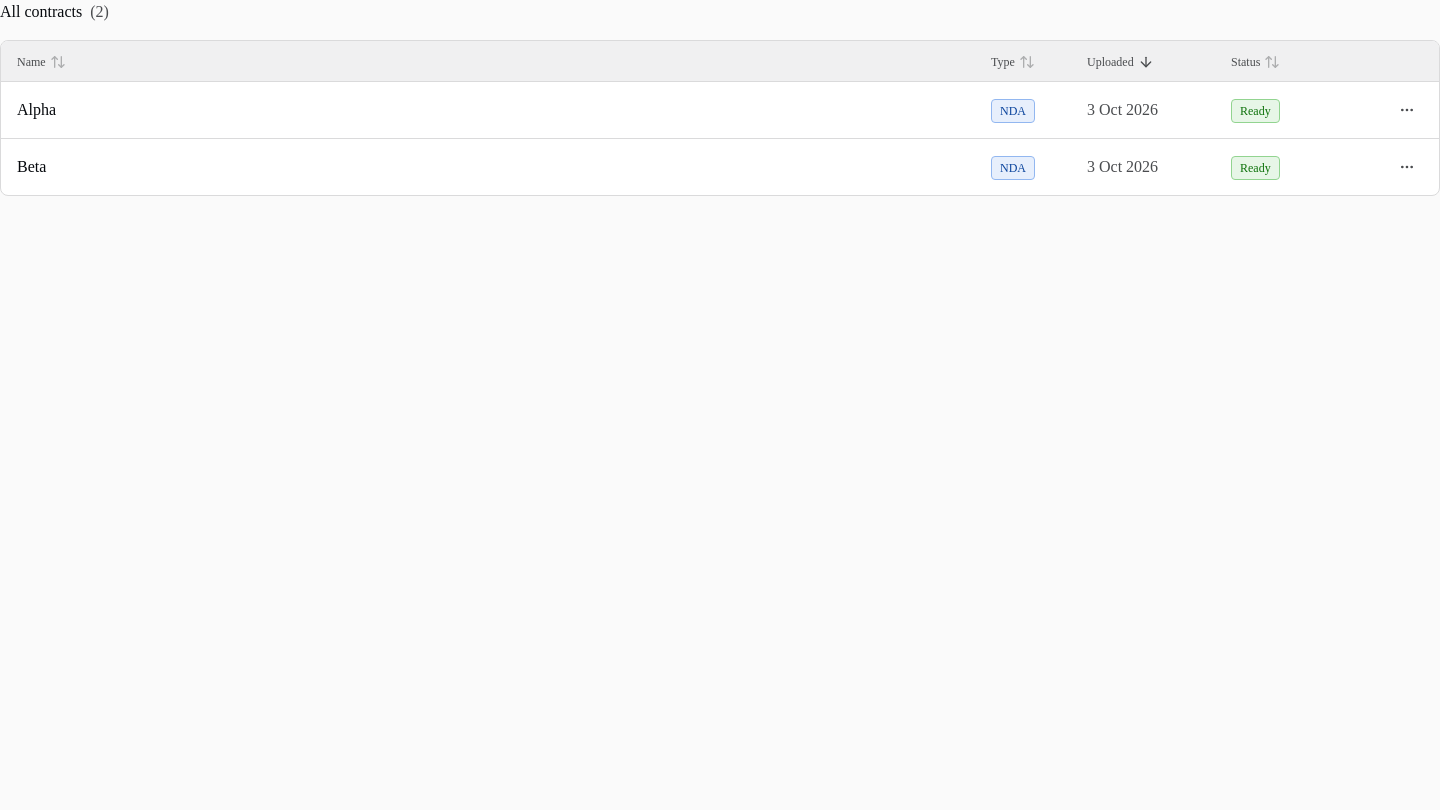
Test case: ContractsTable › deletes after confirmation: Cancel is focused, the row goes, a toast confirms
The width and height of the screenshot is (1440, 810).
Click the button named "Actions for Alpha": (1407, 110) [1391,94,1423,126]
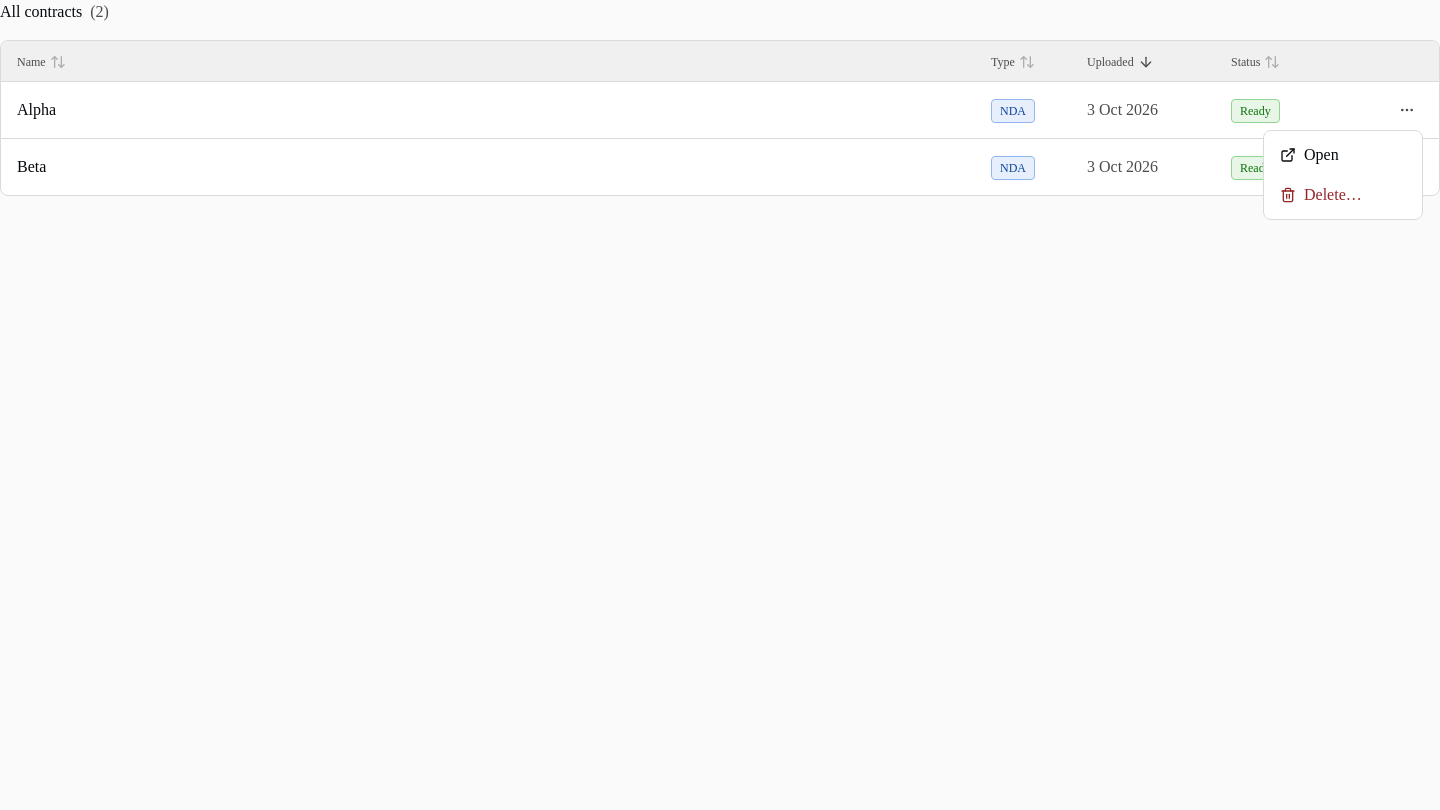
Click the menu item "Delete…": (1321, 194) [1280,186,1362,203]
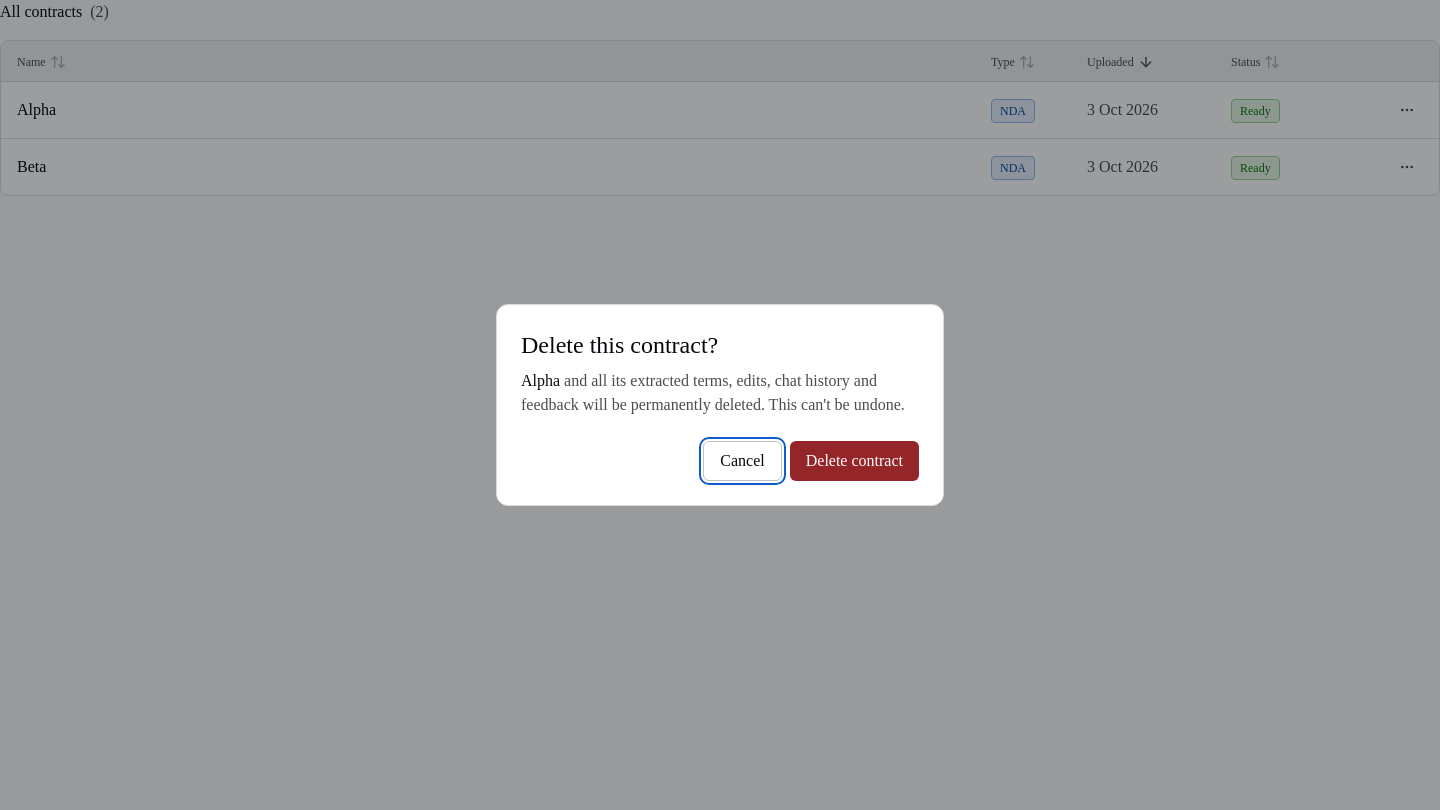
Now the dialog "Delete this contract?" shows "Alpha and all its extracted terms, edits, chat history and feedback will be permanently deleted. This can't be undone.", box [496,304,944,506]
Click the button "Delete contract": (854, 461) [790,441,919,481]
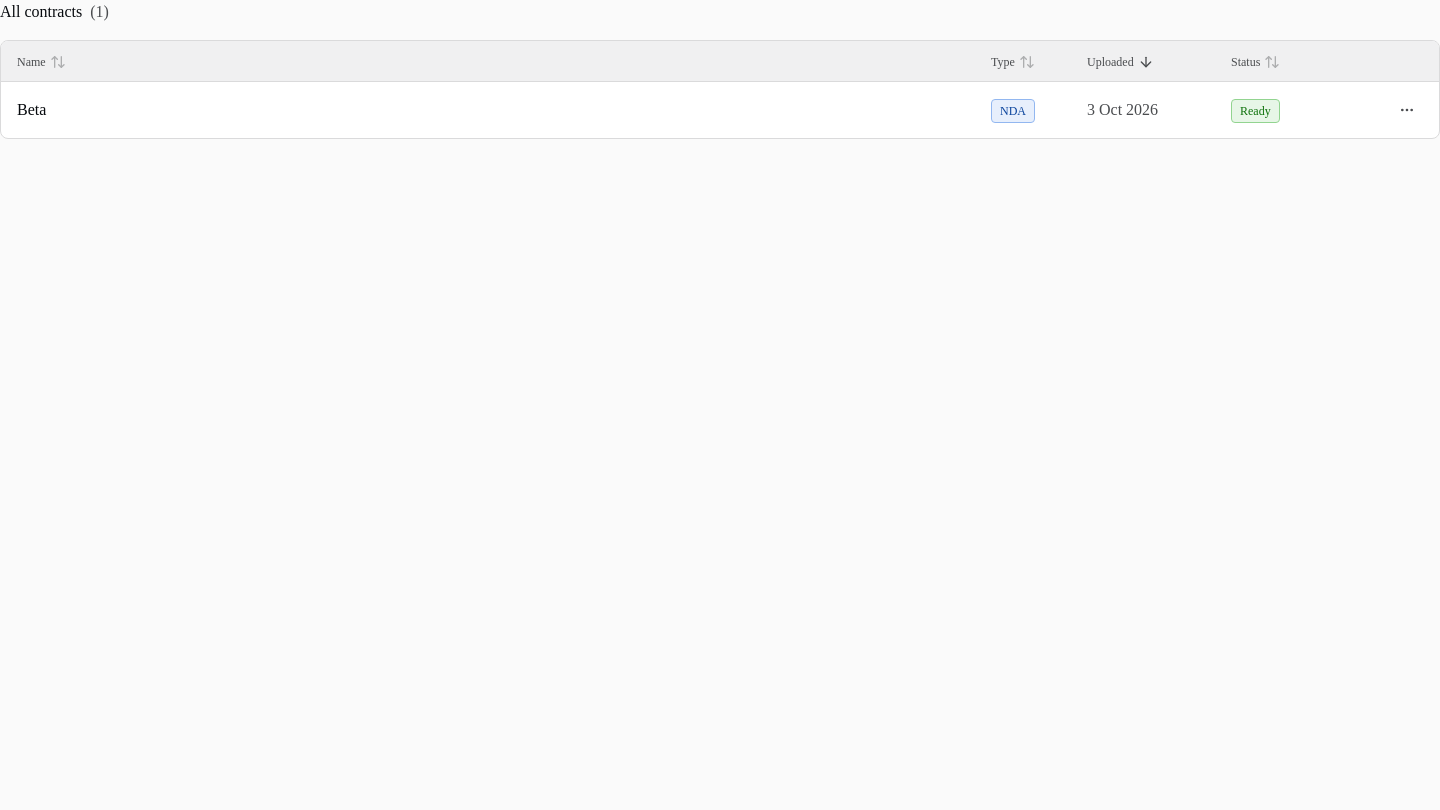
Now the dialog is gone
Now the link "Alpha" is gone
